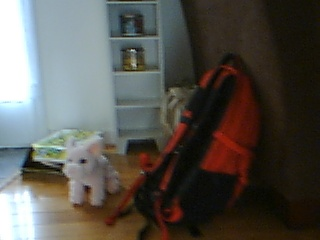piggy: (62, 134, 121, 208)
